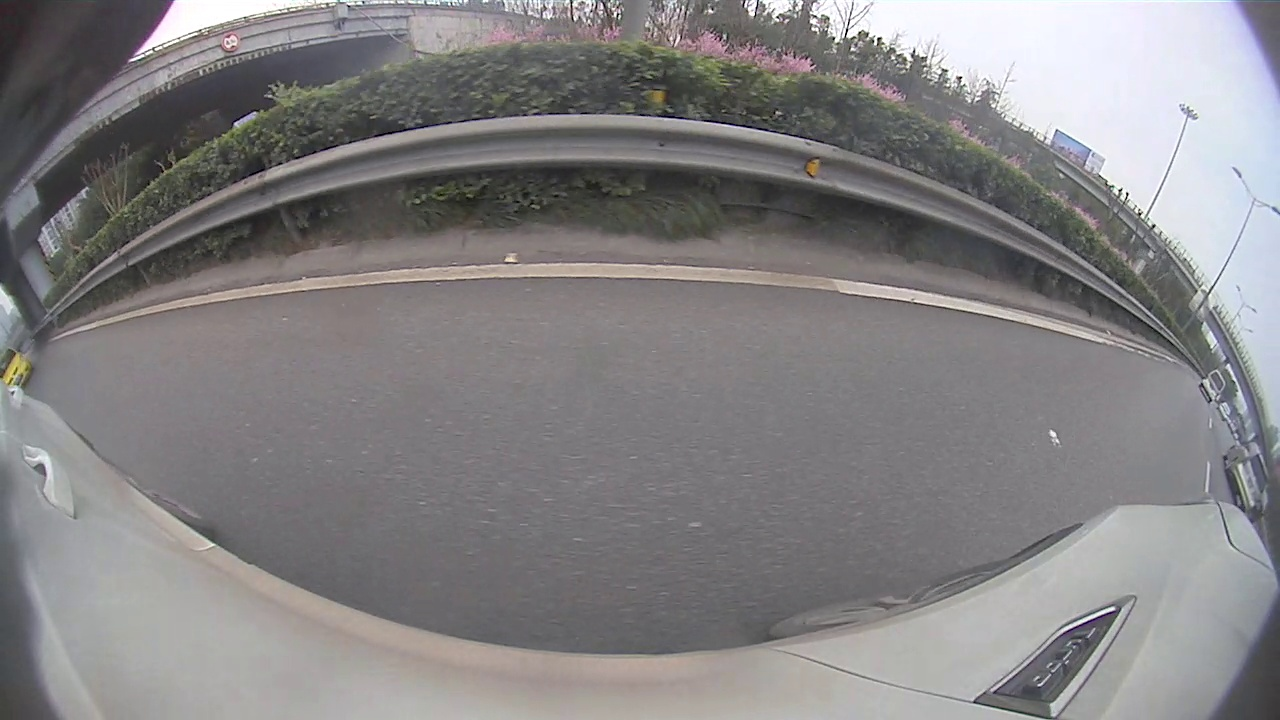car: (1223, 442, 1269, 518), (1, 347, 34, 387), (1201, 370, 1224, 403)
